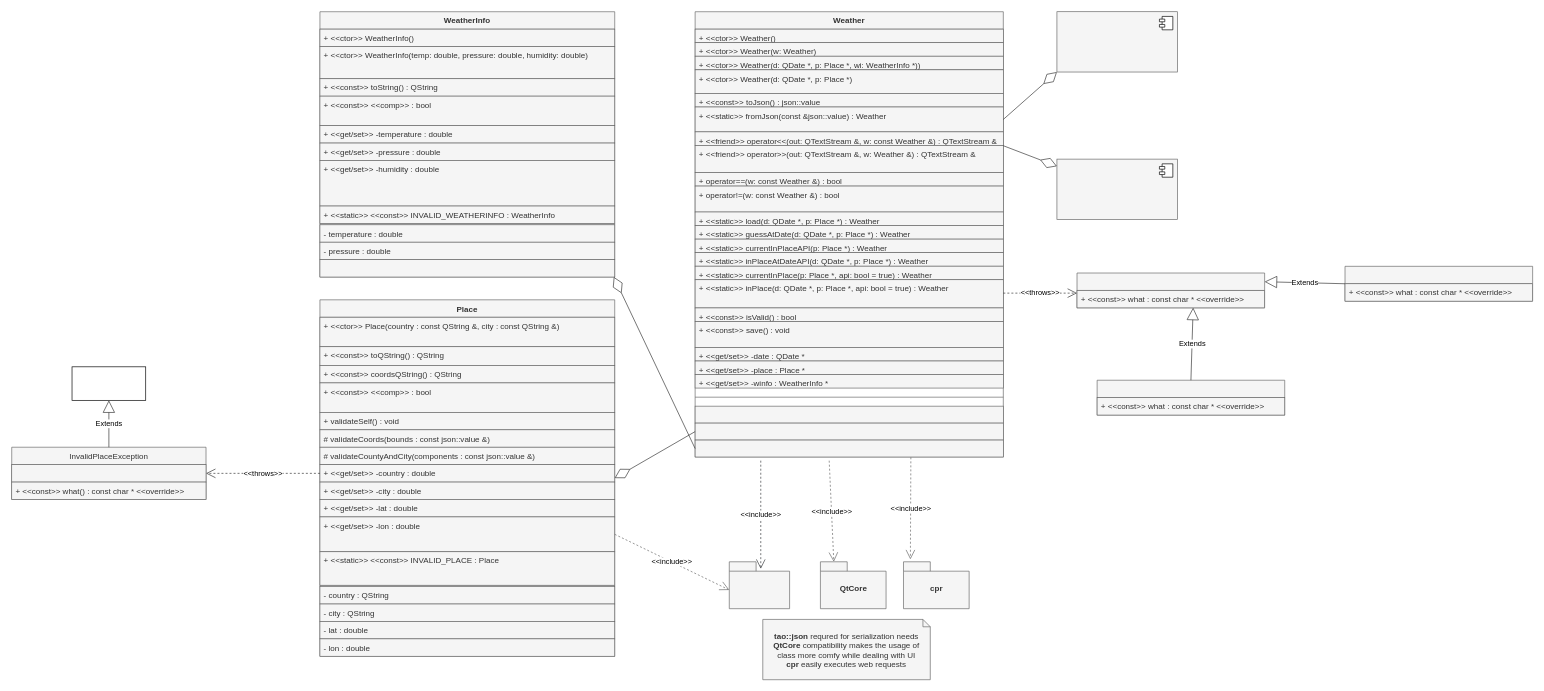
This 1544x691 diagram has some shape labels left out. The box of each missing label's shape, as (x1, y1, x2, y2) in pixels:
+ InvalidPlaceException(place: const Place &): (11, 464, 206, 482)
- date : QDate *: (694, 405, 1003, 423)
- humidity : double: (319, 259, 615, 277)
- place : Place *: (694, 422, 1003, 440)
- winfo : WeatherInfo *: (694, 439, 1003, 457)
<<config>> API_TOKENS: (1056, 11, 1178, 72)
<<logic>> INTERPOLATION FUNCTIONS: (1056, 158, 1178, 219)
CorruptedWeatherFile: (1344, 266, 1533, 301)
tao::json: (729, 561, 790, 609)
WeatherException: (1076, 272, 1265, 308)
WeatherParseError: (1096, 380, 1285, 415)
«interface» std::exception: (71, 366, 146, 400)
